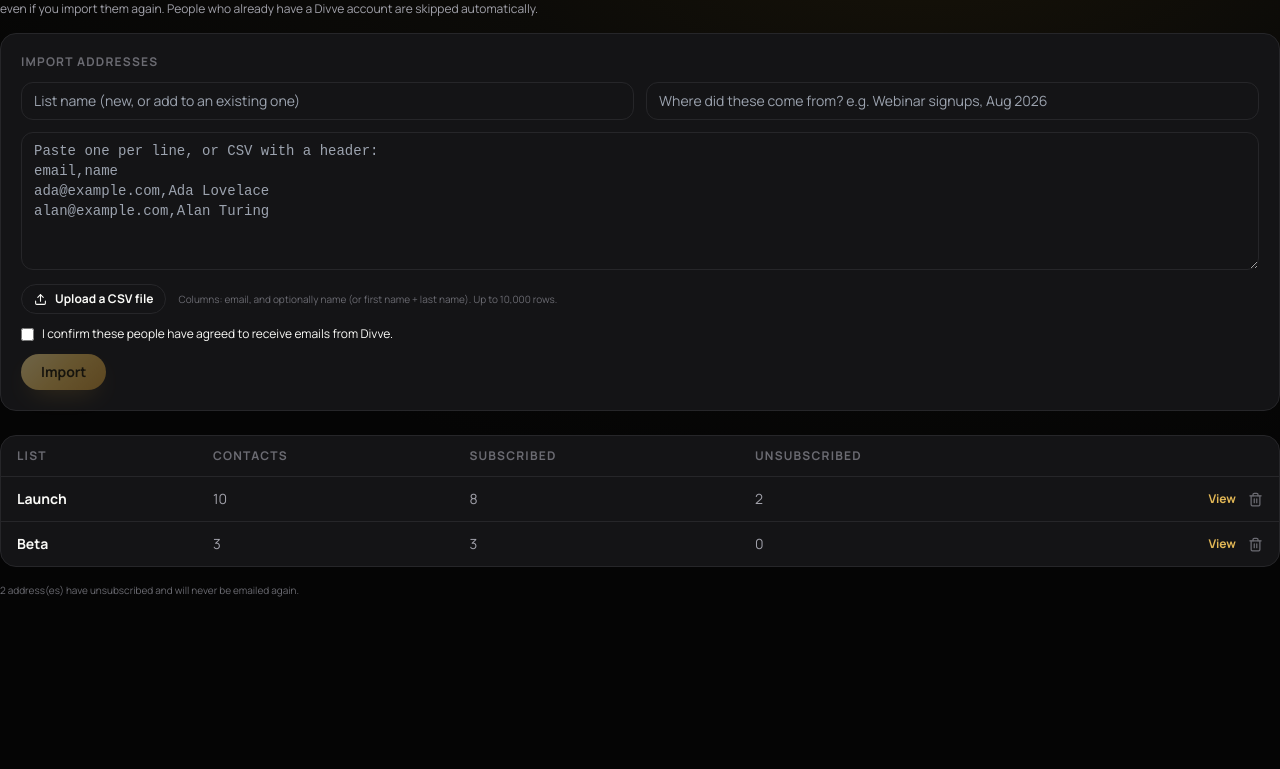
Test: ExternalLists (admin tab — email lists) › views a list's (masked) contacts and pages through them
Click the button with test id "admin-external-list-view-btn-Launch".
click(1222, 499)  # box [1209,491,1236,507]
(page scrolled)
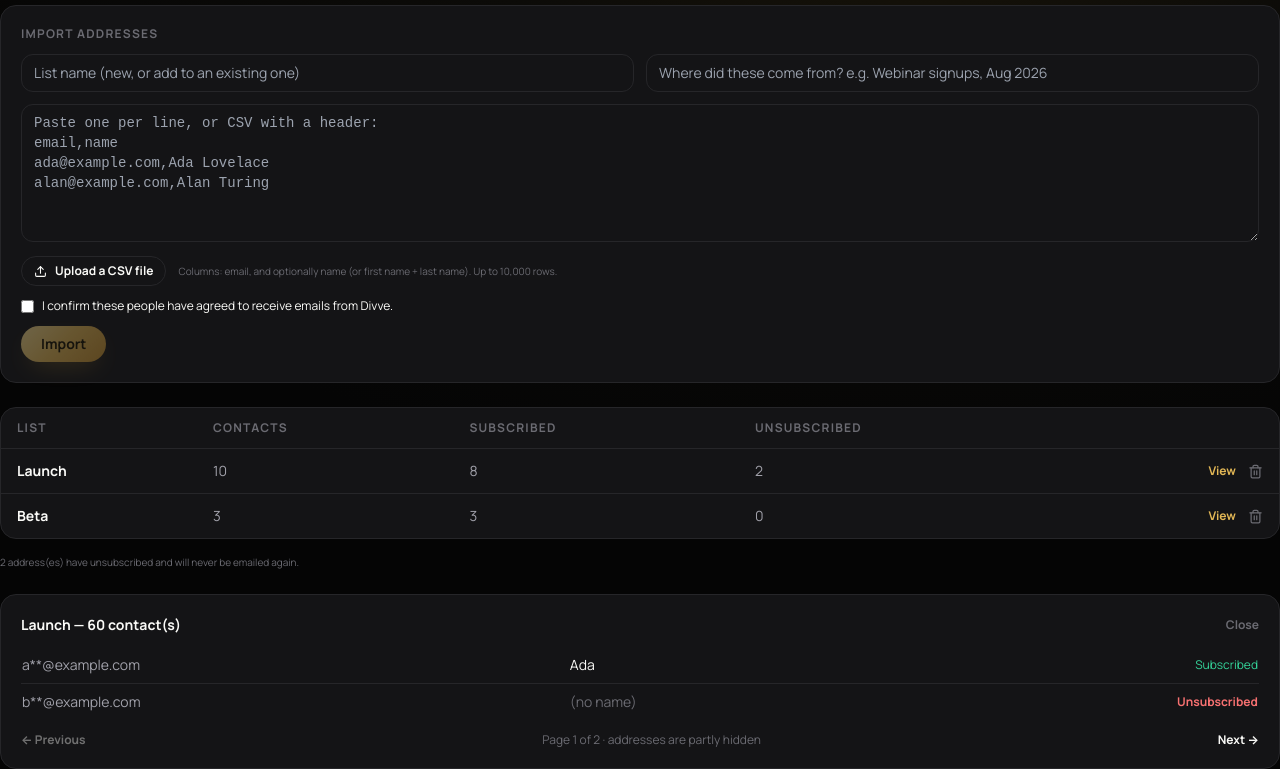
Now the row with test id "admin-external-contact-c1" is shown, box [21,647,1259,684]
Now the row with test id "admin-external-contact-c1" shows "a**@example.com", box [22,655,140,674]
Now the row with test id "admin-external-contact-c1" shows "Subscribed", box [1195,656,1258,673]
Click the button with test id "admin-external-lists-contacts-next-btn".
click(1238, 740)  # box [1218,732,1259,748]
(page scrolled)
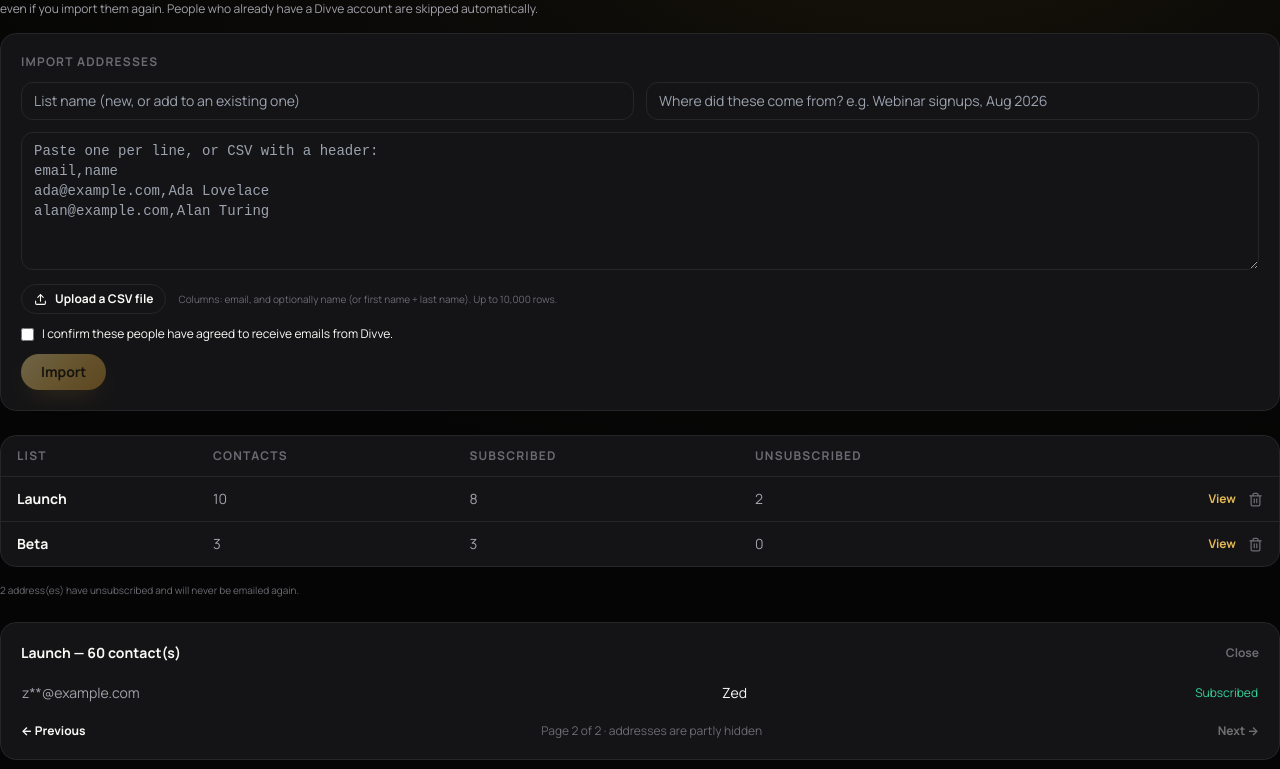
Now the row with test id "admin-external-contact-c3" is shown, box [21,675,1259,711]
Now the button with test id "admin-external-lists-contacts-next-btn" is disabled, box [1218,723,1259,739]
Click the button with test id "admin-external-lists-contacts-close-btn".
click(1242, 653)  # box [1226,645,1259,661]
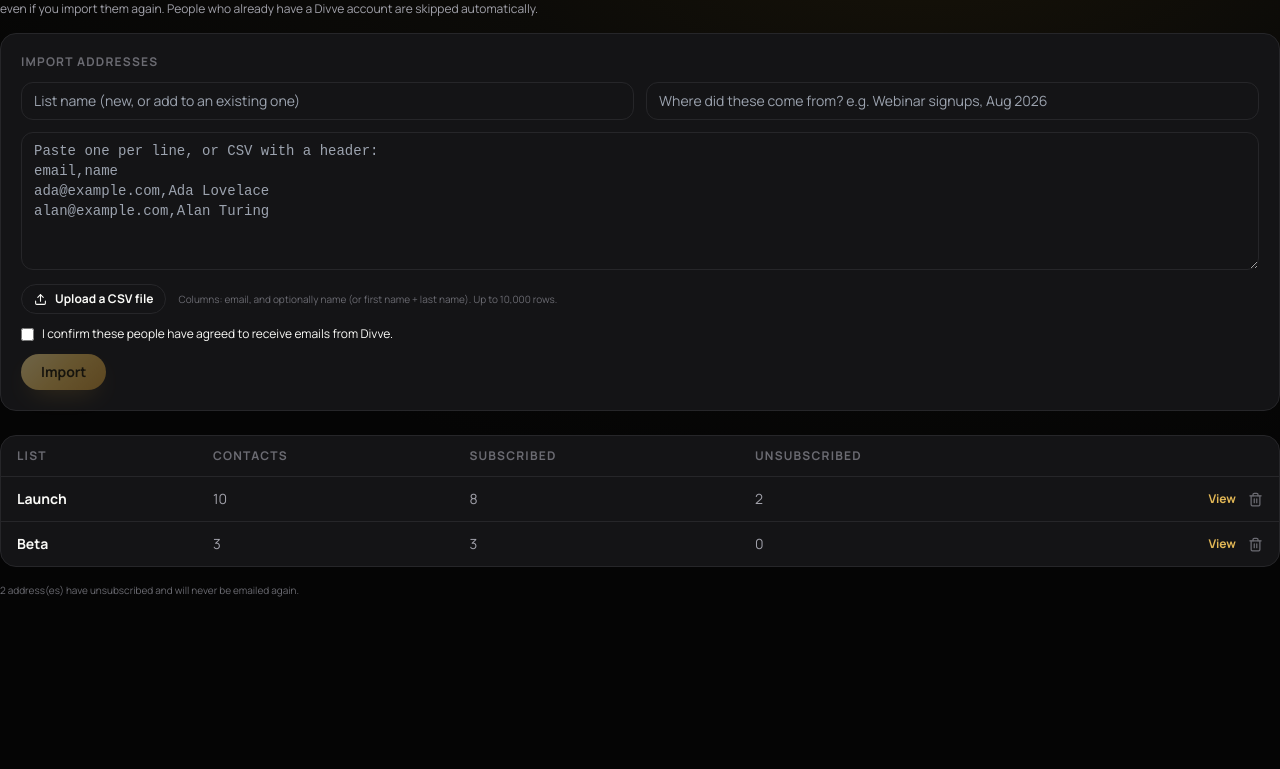
Now the element with test id "admin-external-lists-contacts" is gone
